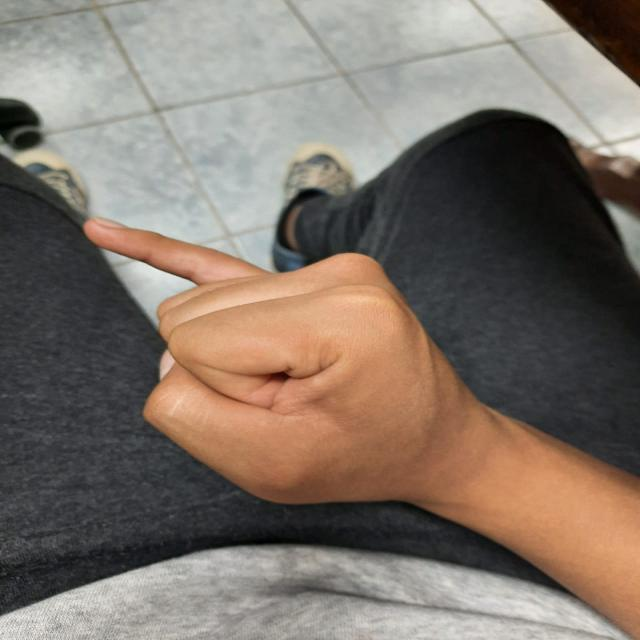Z: (36, 187, 562, 534)
